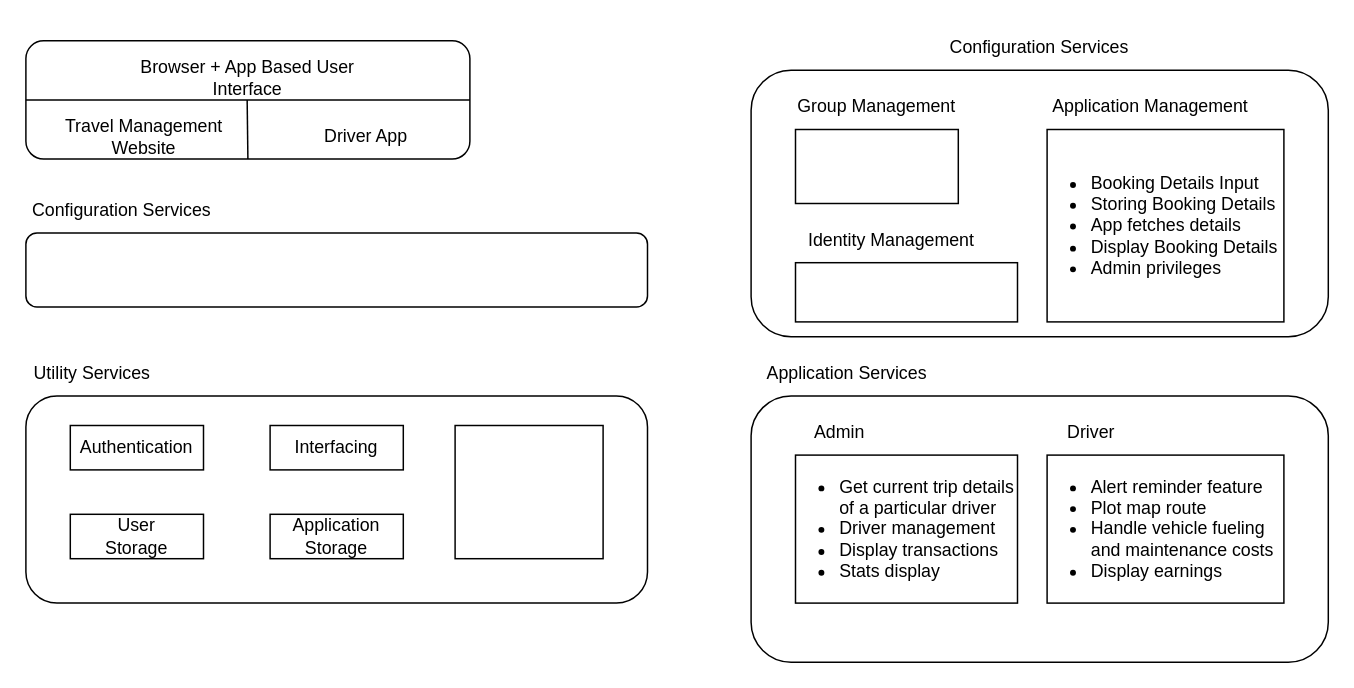
This 1354x688 diagram has some shape labels left out. Here are the shapes that lost their labels. From the top down, the centre of each, then its label:
At [876,166]: "Admin Drivers".
At [336,269]: "Group Management Application Management Identity Management".
At [906,291]: "Email and password".
At [528,491]: "Login/Logout Email Verification for Password change".
